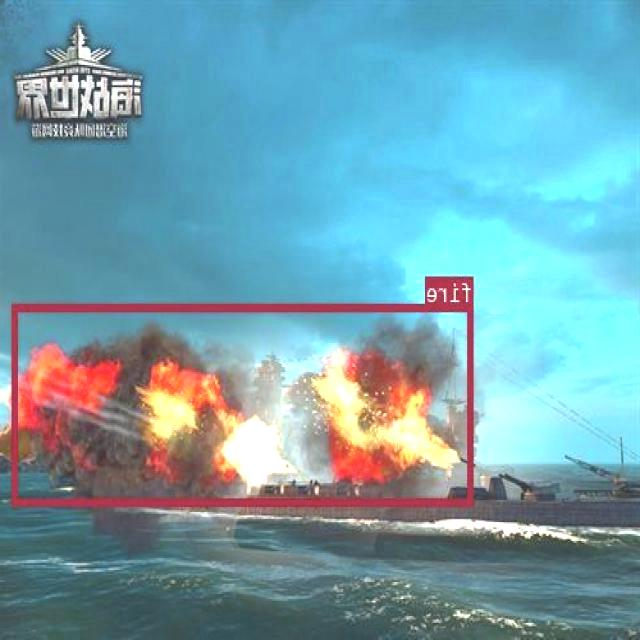fire: (14, 303, 475, 504)
